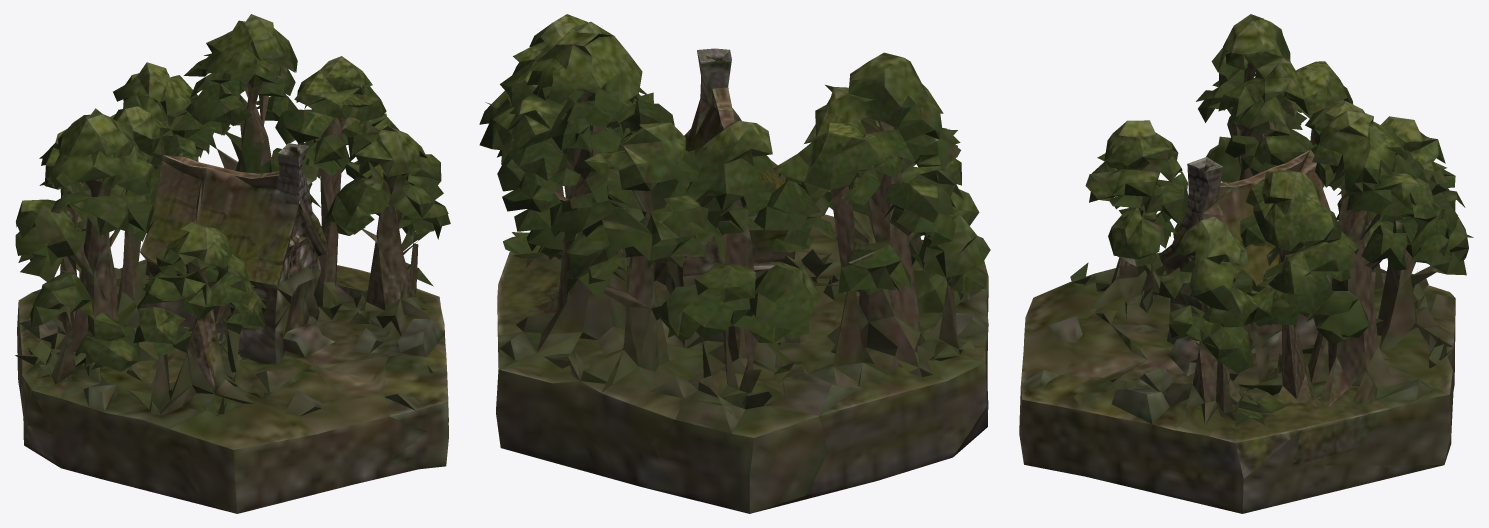
Rendered from woods.glb.
3 renders of one model, left to right at view 1: azimuth 30°, elevation 25°; view 2: azimuth 150°, elevation 25°; view 3: azimuth 270°, elevation 25°, orthographic. The views are drawn at different scales.
Bounding box in the file's own units: 2.31 × 1.79 × 2.17.
Materials: 1 (1 with a texture image).
